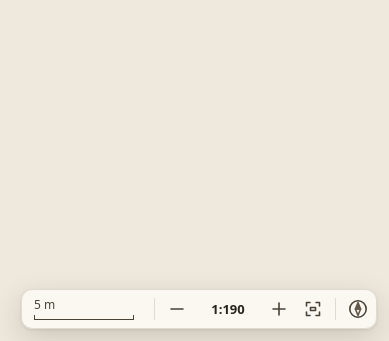
Test: ZoomControls › offers common scales as a menu and zooms about the centre to the chosen one
The width and height of the screenshot is (389, 341).
Click the button "1:190" at (228, 309), box [197,295,259,323]
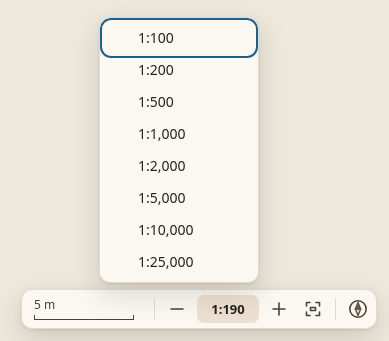
Click the menu item "1:1,000" at (179, 134), box [104,118,254,150]
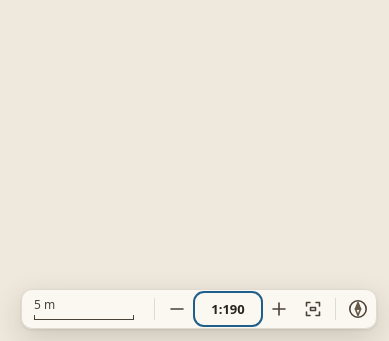
Result: the menu is gone
